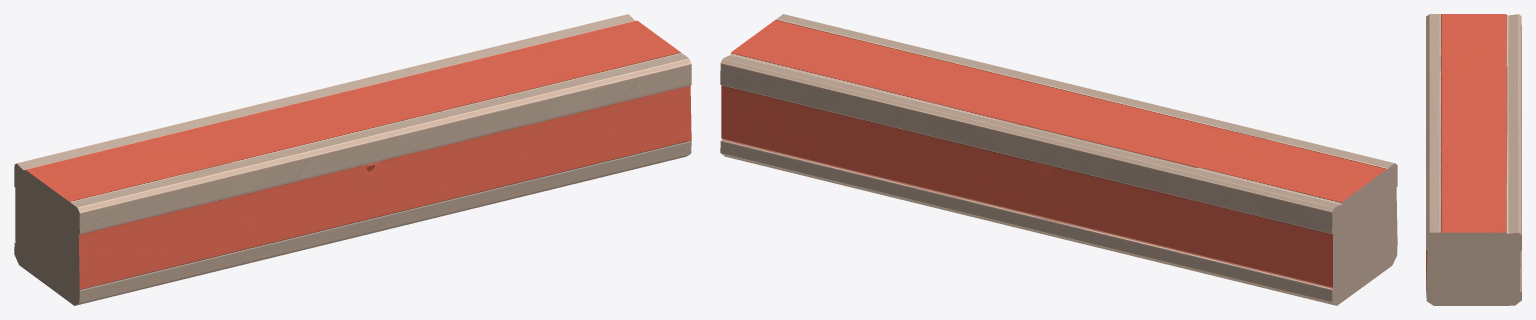
The model's file is edge_coral.glb.
The picture shows the model from 3 angles, left to right: view 1: azimuth 30°, elevation 25°; view 2: azimuth 150°, elevation 25°; view 3: azimuth 270°, elevation 25°; orthographic projection. The views are drawn at different scales.
Parts seen in each view (by area): view 1: edge_coral; view 2: edge_coral; view 3: edge_coral.
Part boxes in pixels (<box>): edge_coral: <box>14,14,691,305</box>; edge_coral: <box>720,14,1397,305</box>; edge_coral: <box>1426,14,1521,305</box>.
Bounding box in the file's own units: 2.8 × 0.4391 × 0.5194.
Materials: 1 (1 with a texture image).
